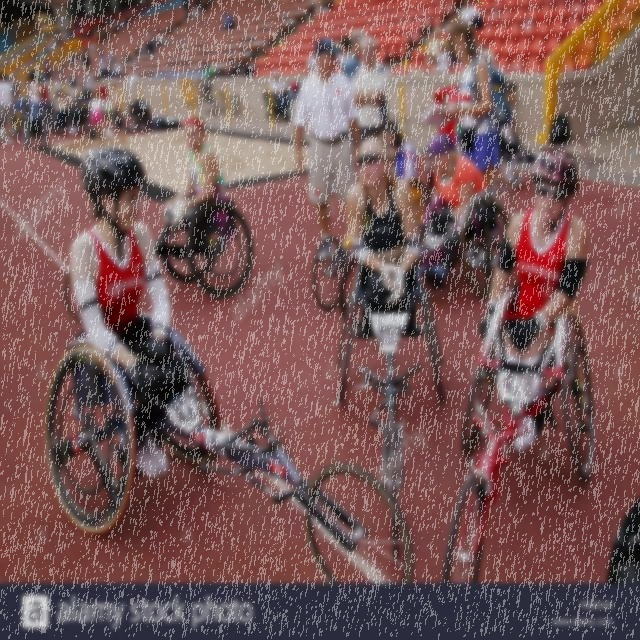pessoa: (68, 142, 192, 484), (478, 143, 591, 454), (442, 17, 511, 271), (294, 36, 364, 264), (344, 136, 421, 339), (415, 132, 497, 282), (160, 114, 229, 258), (348, 34, 389, 143), (18, 16, 98, 70), (341, 28, 368, 184), (372, 118, 419, 186), (494, 80, 522, 184), (200, 55, 258, 78), (108, 80, 128, 146), (446, 86, 464, 158), (418, 38, 452, 74), (0, 72, 16, 146), (89, 91, 107, 148), (69, 85, 87, 134), (26, 72, 44, 120), (10, 90, 27, 136), (54, 88, 70, 134), (424, 25, 442, 65), (89, 90, 106, 128), (98, 18, 124, 42), (269, 70, 289, 100), (81, 66, 96, 105), (304, 42, 320, 78), (461, 0, 482, 25), (7, 68, 26, 92), (36, 69, 62, 85), (338, 34, 353, 59), (220, 10, 236, 32), (106, 58, 122, 78), (189, 0, 202, 24), (145, 28, 156, 56), (315, 0, 334, 15), (122, 12, 140, 26), (98, 50, 106, 80), (55, 78, 65, 98), (75, 78, 84, 98), (69, 70, 78, 90), (183, 0, 191, 22), (476, 44, 488, 58), (138, 3, 146, 17), (156, 29, 164, 42), (108, 47, 115, 60)
